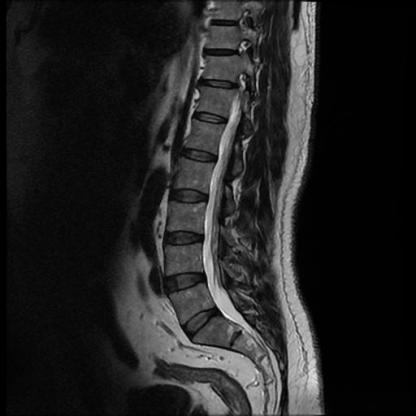Disc Bulgerotation: (179, 308, 224, 332)
Disc Relaxationrotation: (161, 184, 211, 297), (181, 309, 222, 332)
